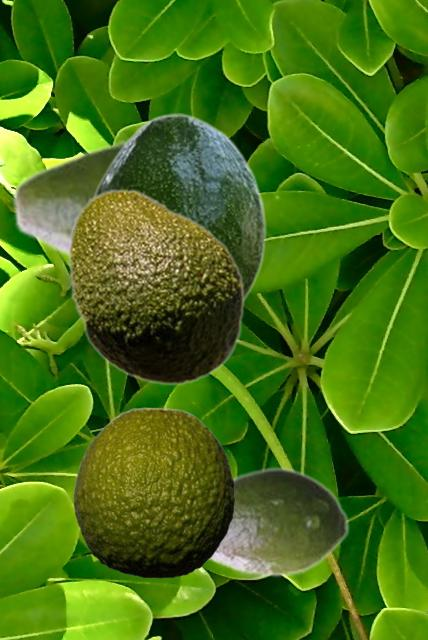avocado: (67, 188, 244, 385), (90, 113, 265, 303), (73, 407, 233, 577), (206, 466, 349, 577), (10, 138, 125, 261)
